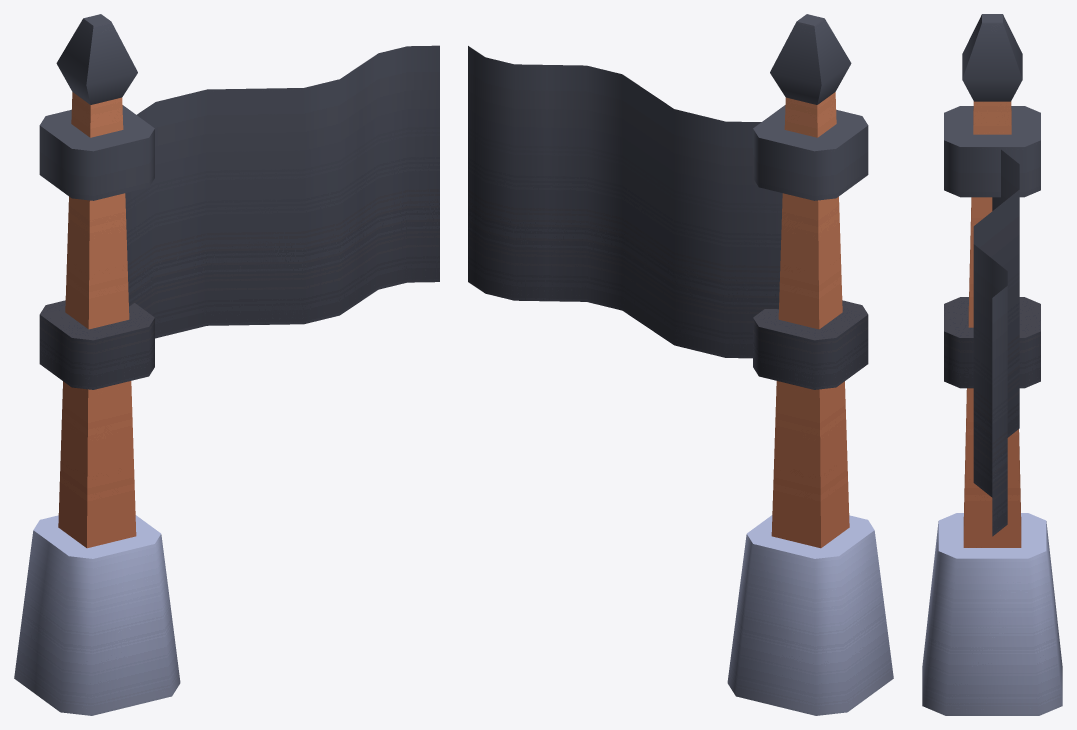
The model's file is flag-pirate.glb.
3 views of the same model, side by side, from view 1: azimuth 30°, elevation 25°; view 2: azimuth 150°, elevation 25°; view 3: azimuth 270°, elevation 25° (orthographic).
Parts seen in each view (by area): view 1: flag-pirate; view 2: flag-pirate; view 3: flag-pirate.
Part boxes in pixels (bbox=[...]): flag-pirate: bbox=[14, 14, 439, 715]; flag-pirate: bbox=[468, 14, 893, 715]; flag-pirate: bbox=[922, 14, 1062, 715].
Bounding box in the file's own units: 1.34 × 2.1 × 0.3989.
Materials: 1 (1 with a texture image).
